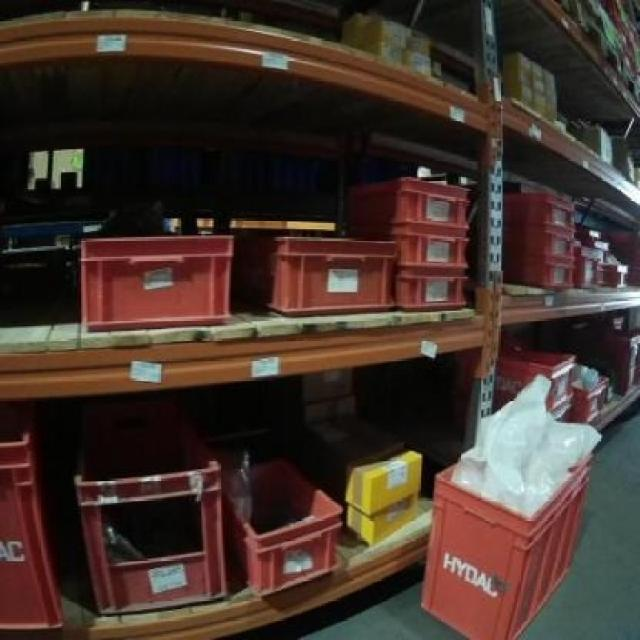pallets: (420, 457, 588, 637), (74, 458, 223, 611), (220, 451, 340, 591), (80, 234, 231, 328), (0, 402, 58, 626), (268, 235, 391, 311)
